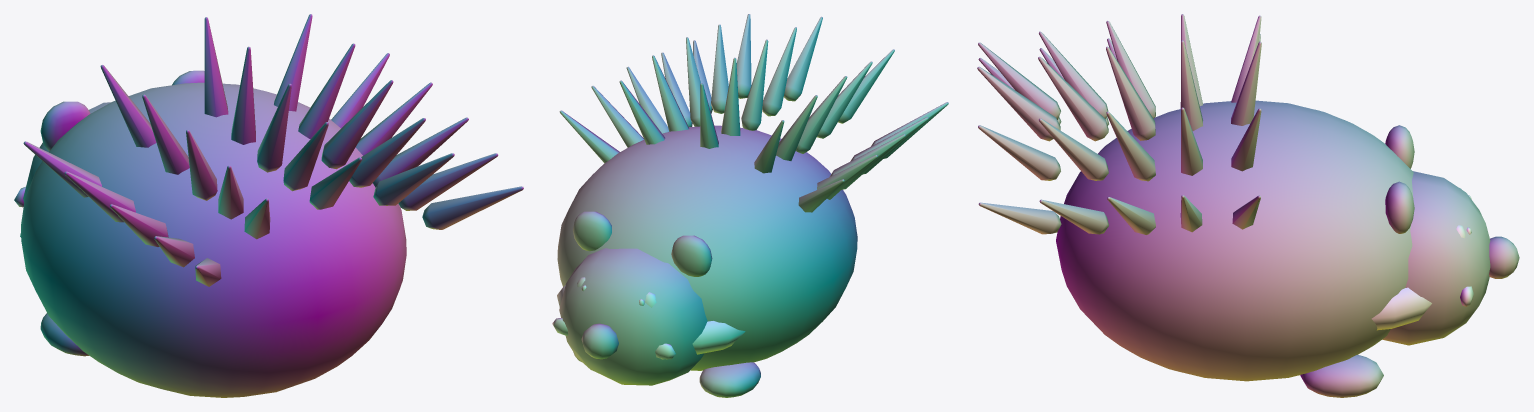
File: pet_hedgehog.glb
3 views of the same model, side by side, from view 1: azimuth 30°, elevation 25°; view 2: azimuth 150°, elevation 25°; view 3: azimuth 270°, elevation 25° (orthographic). The views are drawn at different scales.
Visible parts, largest first — view 1: hedgehog; view 2: hedgehog; view 3: hedgehog.
Part boxes in pixels (<box>): hedgehog: <box>14,14,523,397</box>; hedgehog: <box>552,14,948,397</box>; hedgehog: <box>977,14,1519,397</box>.
Bounding box in the file's own units: 0.2034 × 0.1857 × 0.2841.
